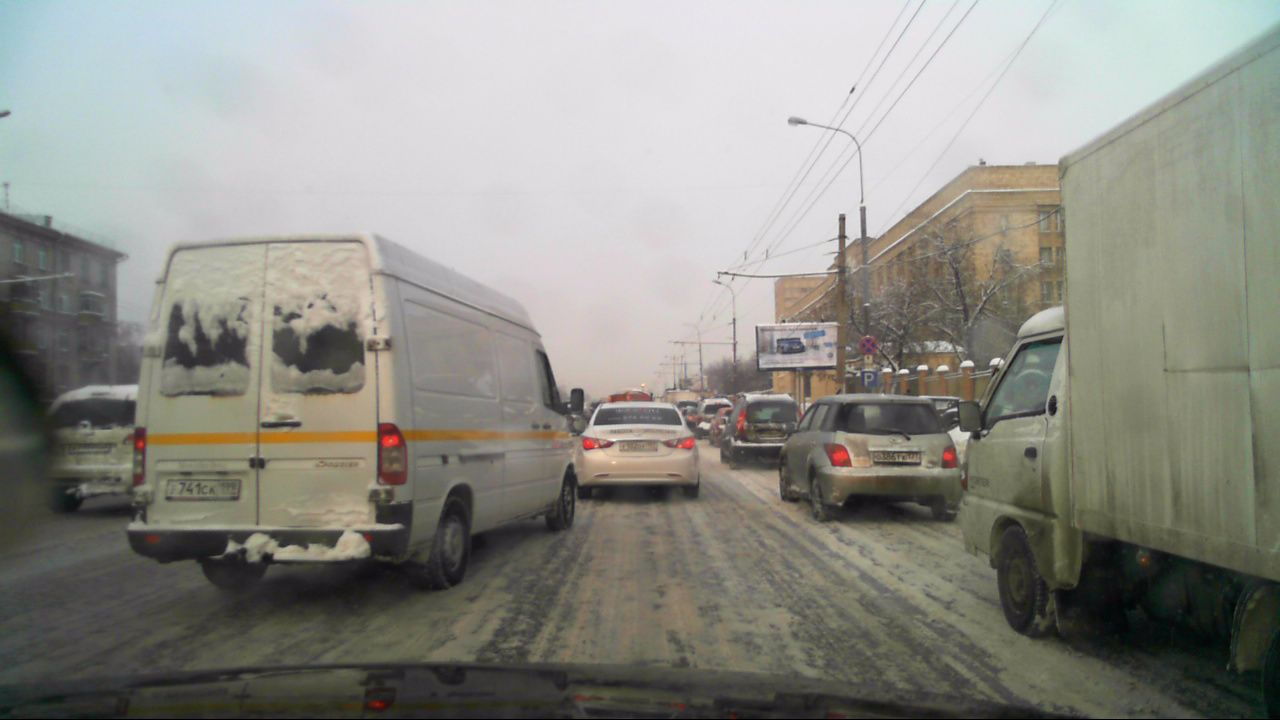No Parking: (852, 334, 875, 354)
